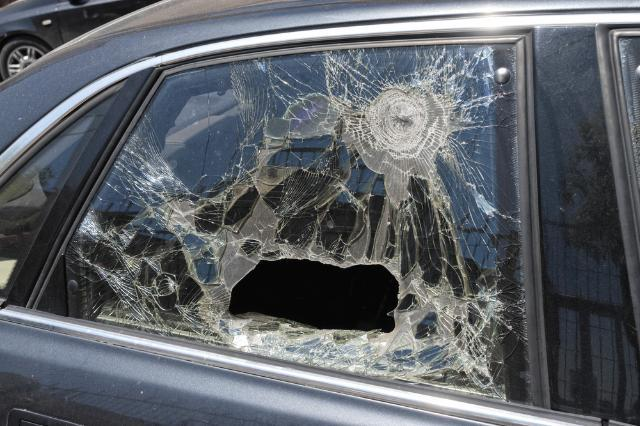glass shatter: (65, 43, 531, 406)
